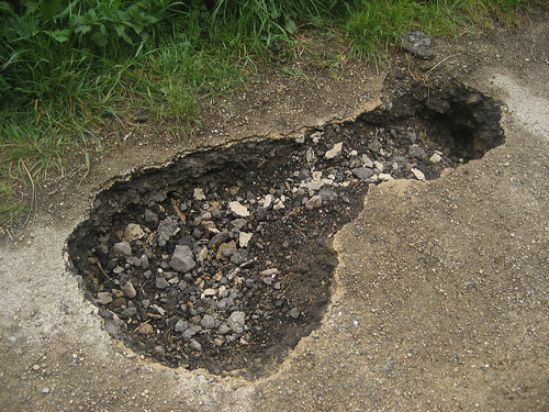pothole: (60, 73, 510, 387)
